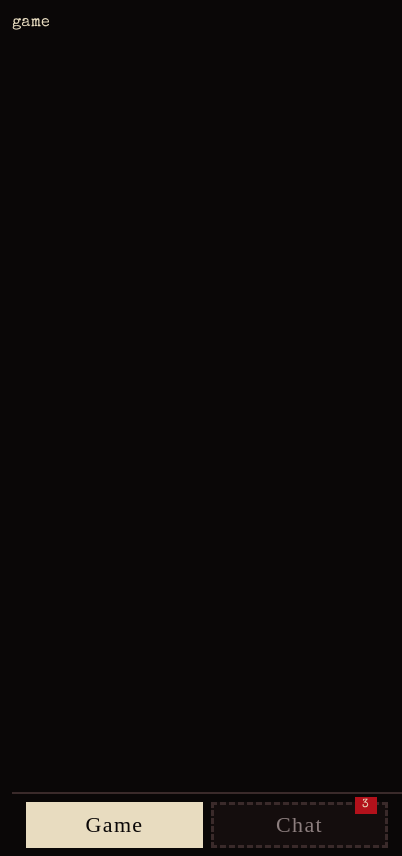
Test: SplitLayout › shows an unread badge while on the other pane and clears it when opened
Expected: the text named "3 new messages" is shown, x1=355 y1=797 x2=377 y2=814
What coordinates should you click on to do the following:
click the tab "Chat 3"
I would click on:
 (300, 825)
Its box is x1=211 y1=802 x2=388 y2=848.
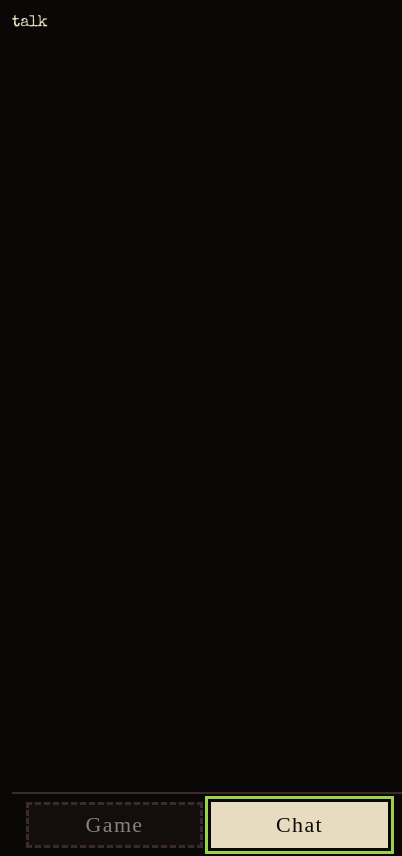
Now the element with class "split" has attribute data-pane="chat"
